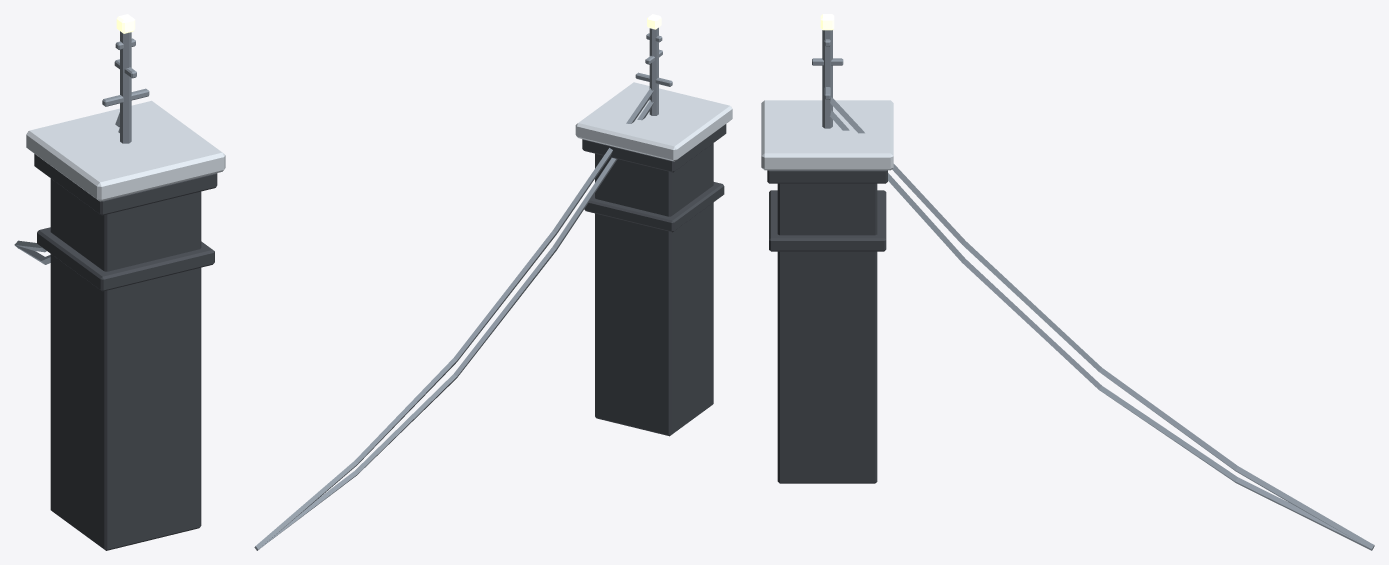
The model's file is Hut_Chimney_0_-2.fbx.
3 views of the same model, side by side, from view 1: azimuth 30°, elevation 25°; view 2: azimuth 150°, elevation 25°; view 3: azimuth 270°, elevation 25° (orthographic). The views are drawn at different scales.
Parts seen in each view (by area): view 1: Hut_Chimney_0_-2; view 2: Hut_Chimney_0_-2; view 3: Hut_Chimney_0_-2.
Part boxes in pixels (<box>): Hut_Chimney_0_-2: <box>14,14,225,550</box>; Hut_Chimney_0_-2: <box>254,14,732,550</box>; Hut_Chimney_0_-2: <box>761,14,1374,550</box>.
Size of the model in its own units: 261 by 472 by 584.
